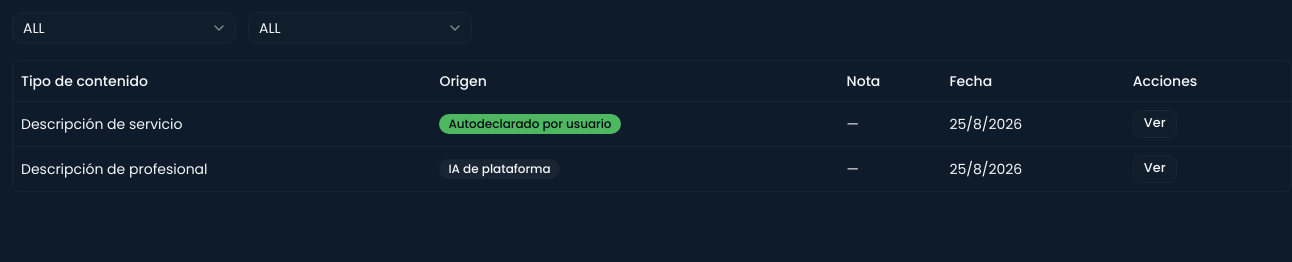
Test: AiDisclosuresTable › filtra por tipo de contenido al elegir una opción del select
Expected: the text "Descripción de servicio" is shown, [13,101,432,146]
Click the dropdown named "Tipo de contenido".
click(124, 28)  # box [12,12,236,44]
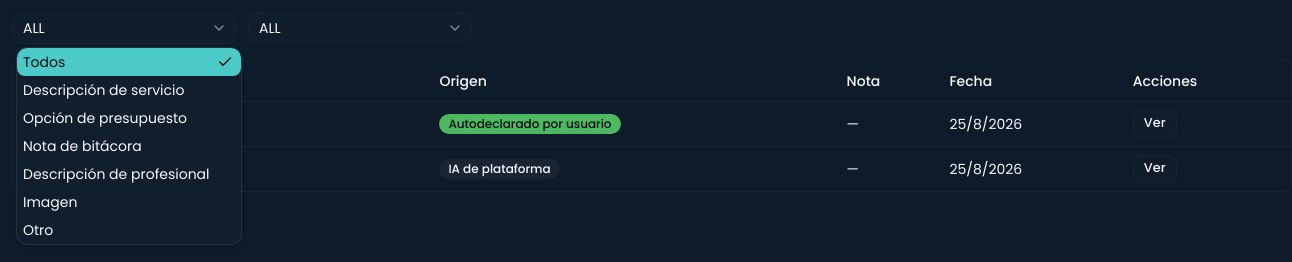
Click the option "Descripción de profesional".
click(116, 174)  # box [23,164,210,184]
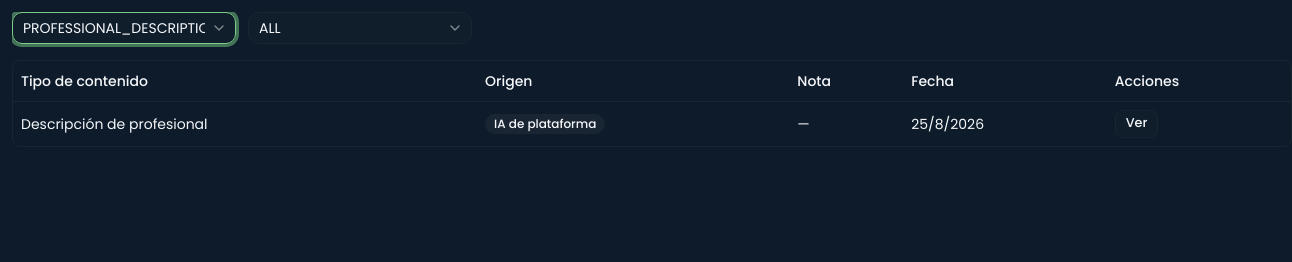
Now the text "Descripción de profesional" is shown, box [13,101,477,146]
Now the text "Descripción de servicio" is gone
